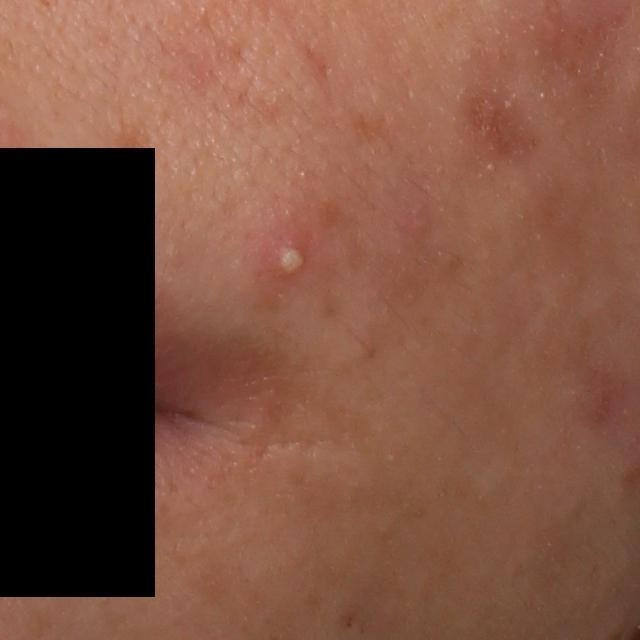pustule: (269, 227, 317, 280)
